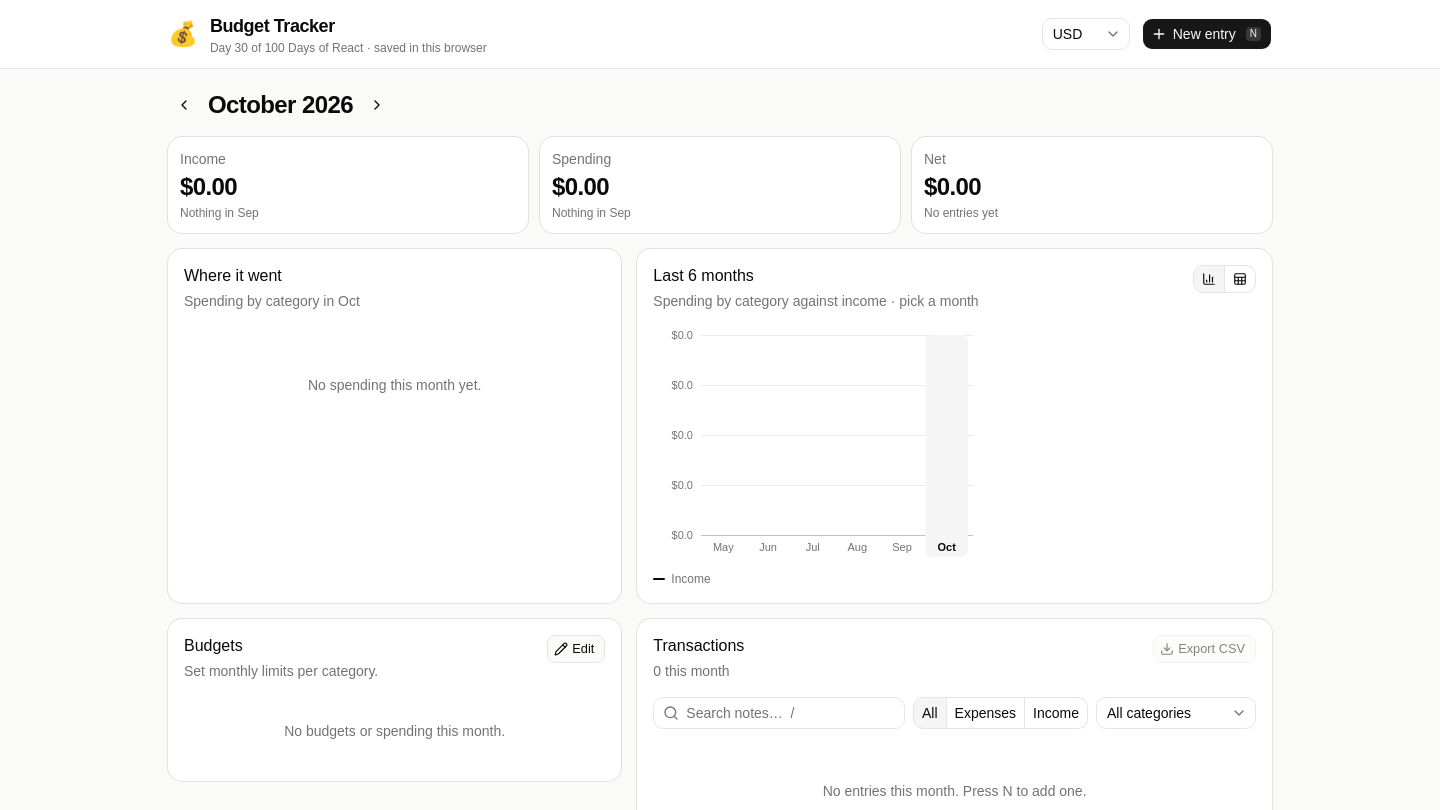
App › refuses an entry without a valid amount
The width and height of the screenshot is (1440, 810).
Click the button "New entry N" at (1207, 34), box [1142,18,1272,50]
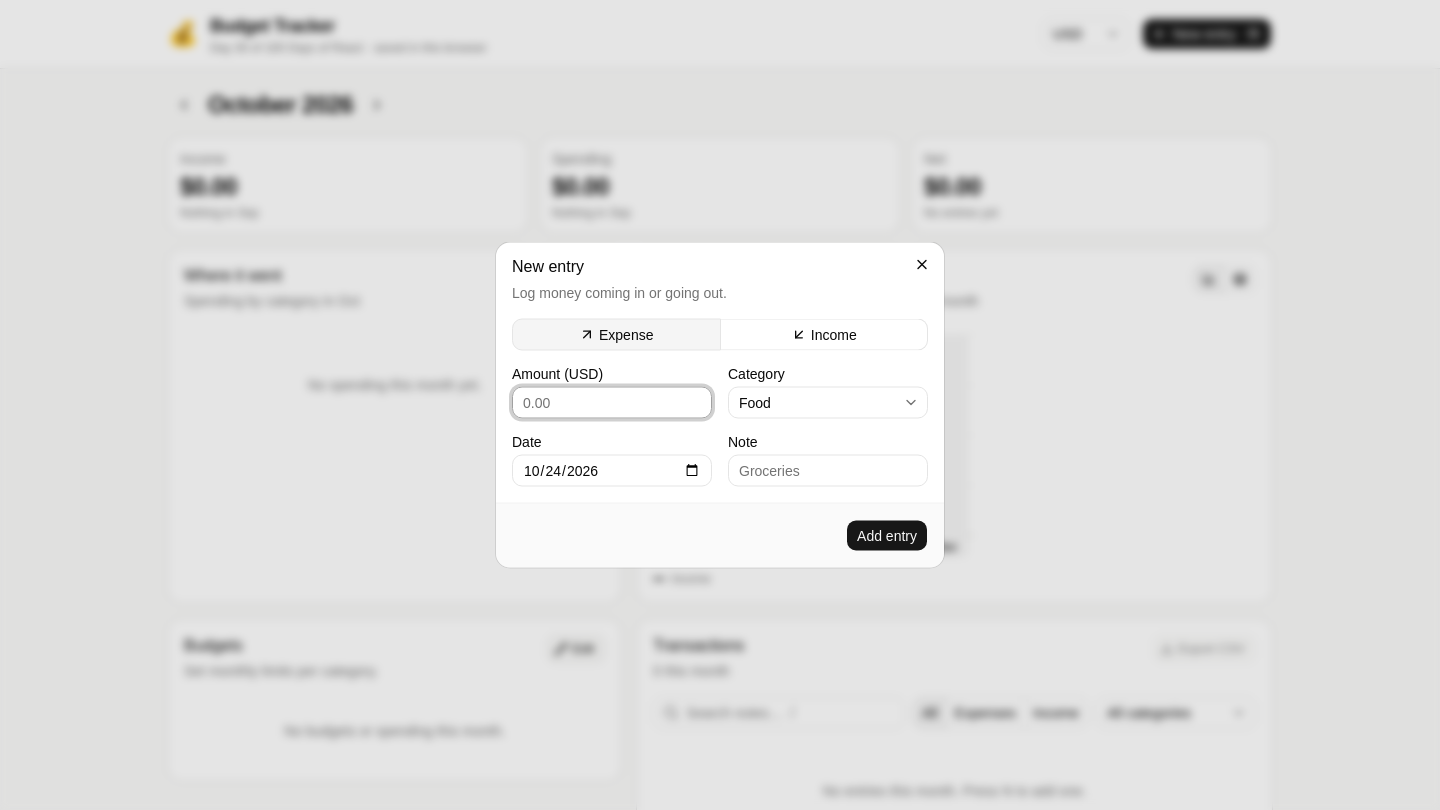
Click the button "Add entry" at (887, 536), box [846,520,928,552]
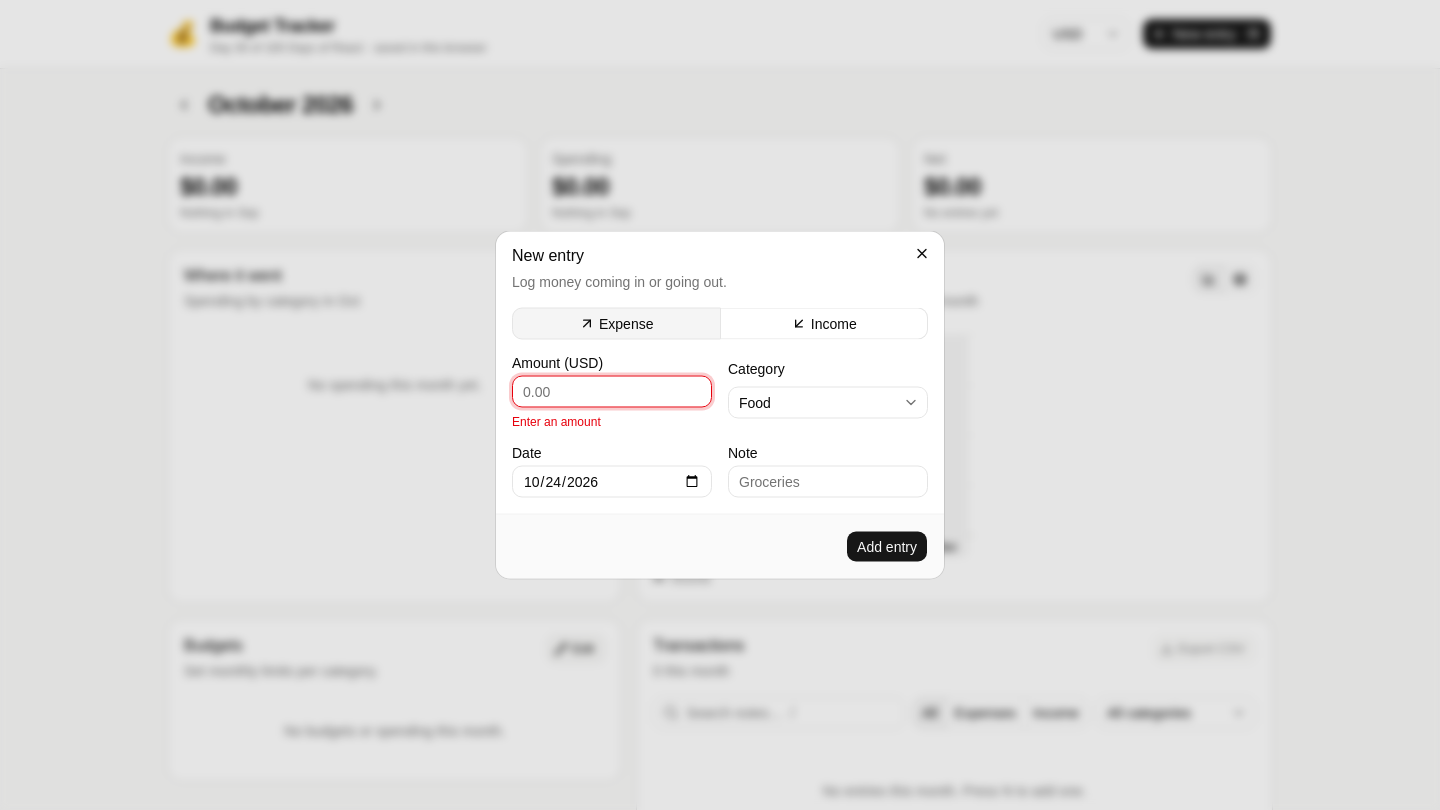
Check: the text "Enter an amount" is shown, box [512,414,601,428]
Type "-4" into the field labelled "Amount (USD)" at (612, 392), box [512,376,712,408]
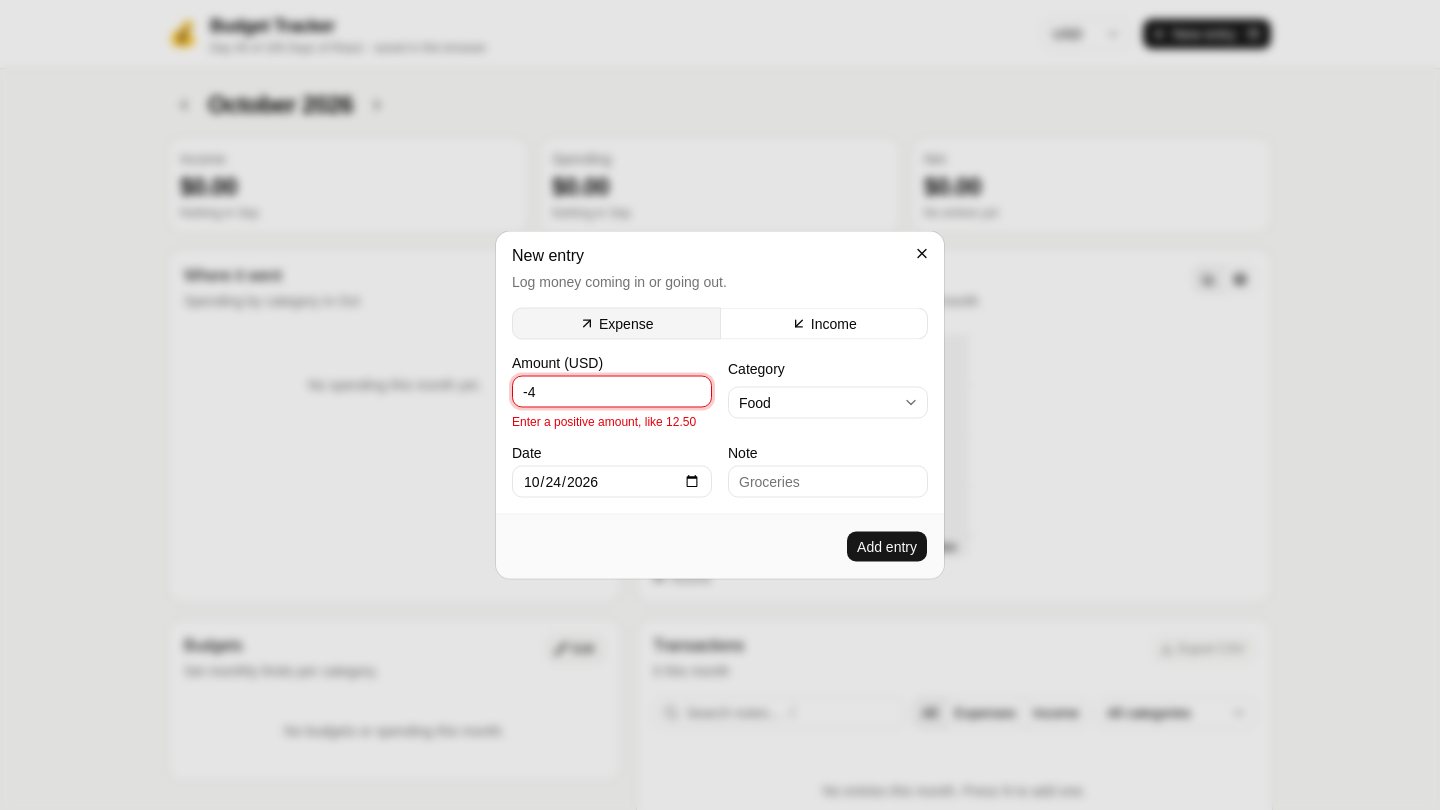
Check: the text "Enter a positive amount, like 12.50" is shown, box [512,414,712,430]
